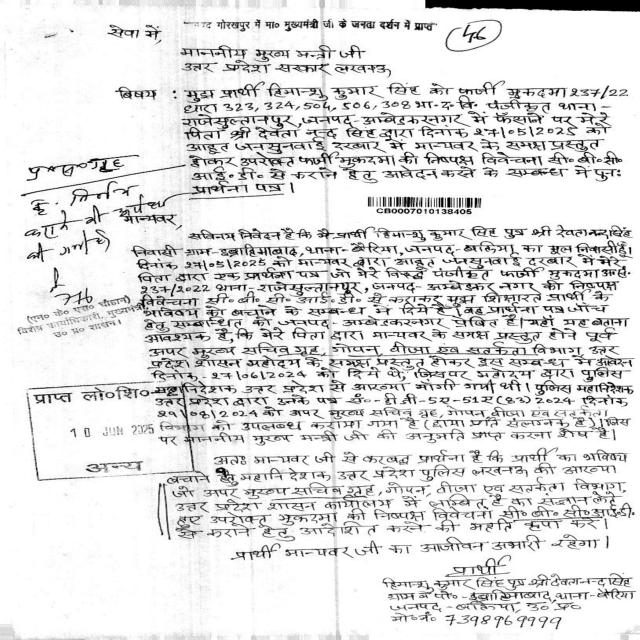antritgovtstamp: (24, 378, 198, 478)
barcode: (360, 191, 491, 220)
signnamestamp: (0, 266, 152, 341)
